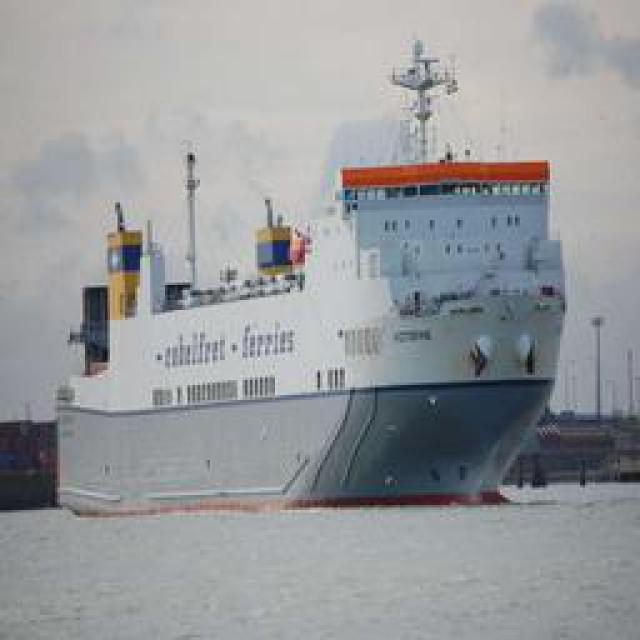Ship: (42, 120, 572, 510)
